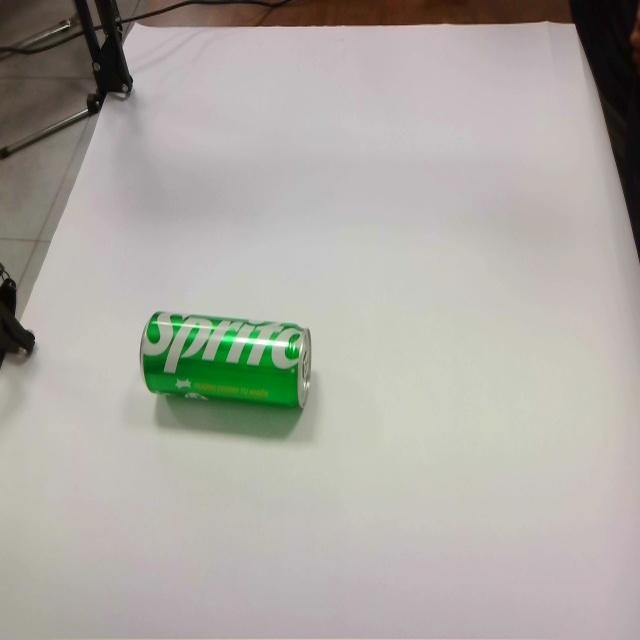debris: (138, 309, 313, 441)
